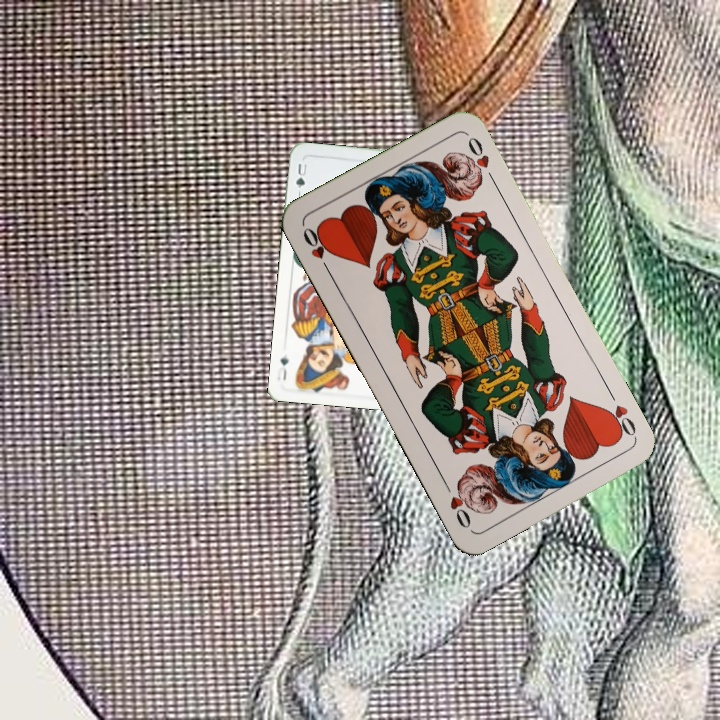GU: (292, 158, 309, 191)
HO: (600, 386, 639, 442), (298, 223, 334, 277)
